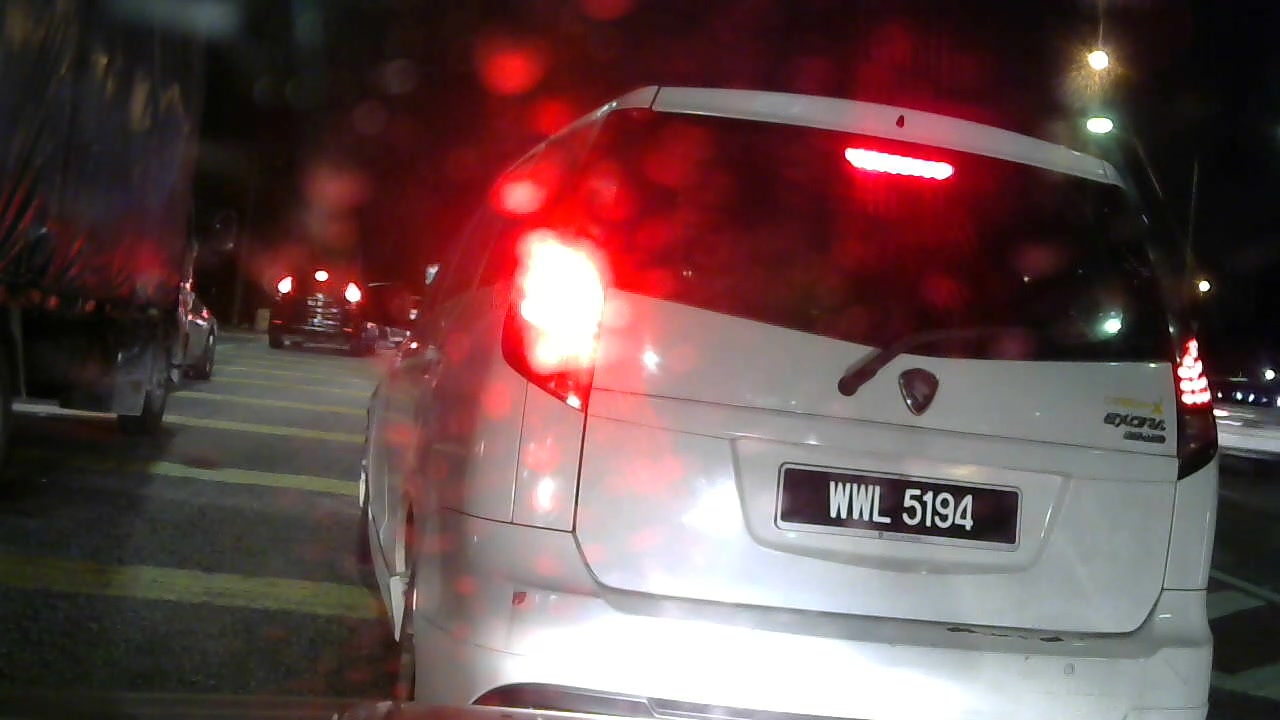Car: (361, 60, 1242, 716), (262, 243, 374, 358), (155, 292, 229, 374)
